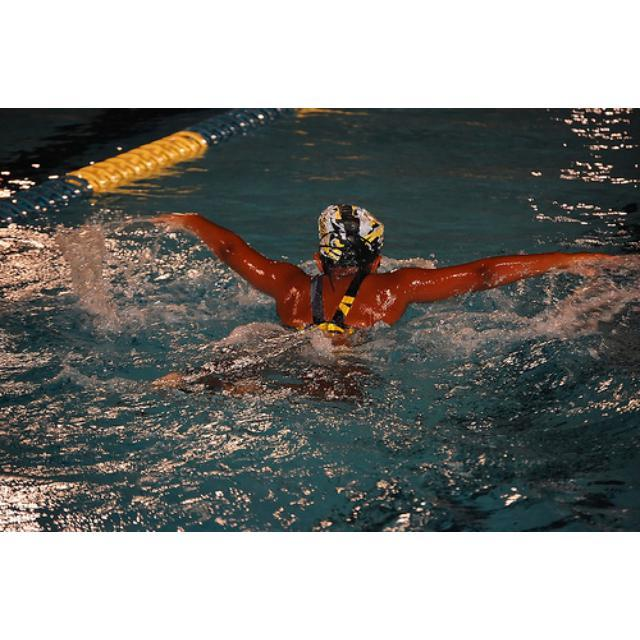human: (149, 194, 639, 359)
